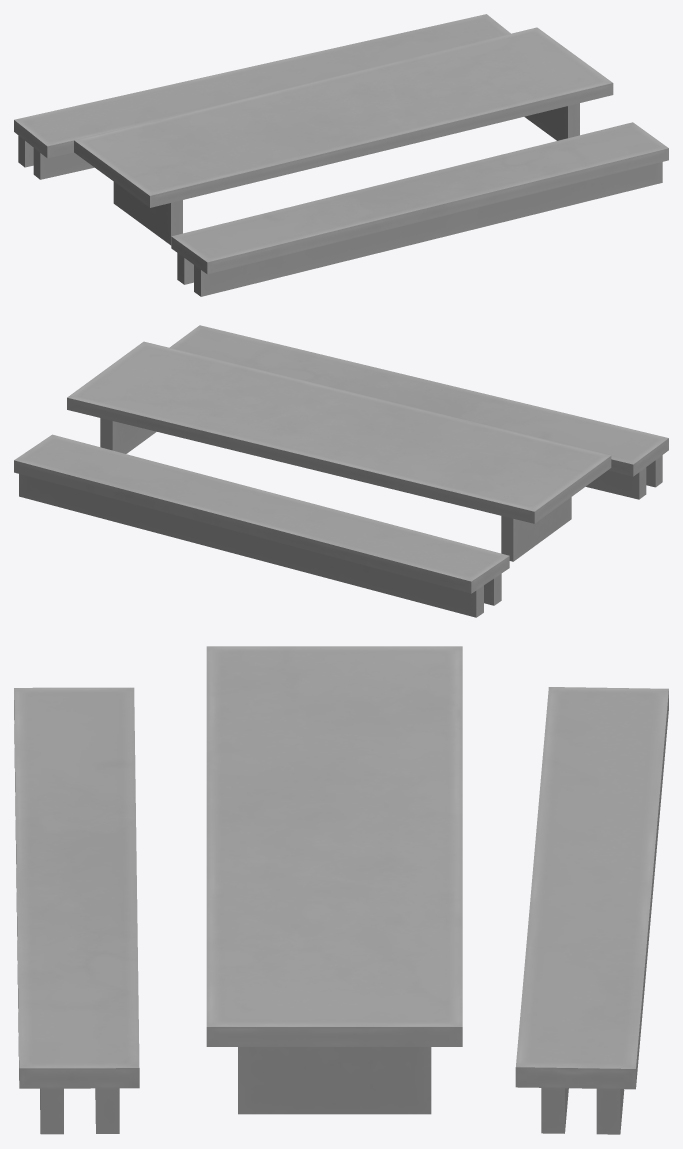
The model's file is Pfb_Canteen.fbx.
The picture shows the model from 3 angles, top to bottom: view 1: azimuth 30°, elevation 25°; view 2: azimuth 150°, elevation 25°; view 3: azimuth 270°, elevation 25°; orthographic projection. The views are drawn at different scales.
Visible parts, largest first — view 1: Mat_Canteen_02-JLAB; view 2: Mat_Canteen_02-JLAB; view 3: Mat_Canteen_02-JLAB.
Boxes of the visible parts, bbox=[...] form: Mat_Canteen_02-JLAB: bbox=[14, 14, 668, 296]; Mat_Canteen_02-JLAB: bbox=[14, 325, 668, 617]; Mat_Canteen_02-JLAB: bbox=[14, 646, 668, 1134].
Size of the model in its own units: 3.51 by 0.4592 by 2.54.
1 material, 1 textured.
